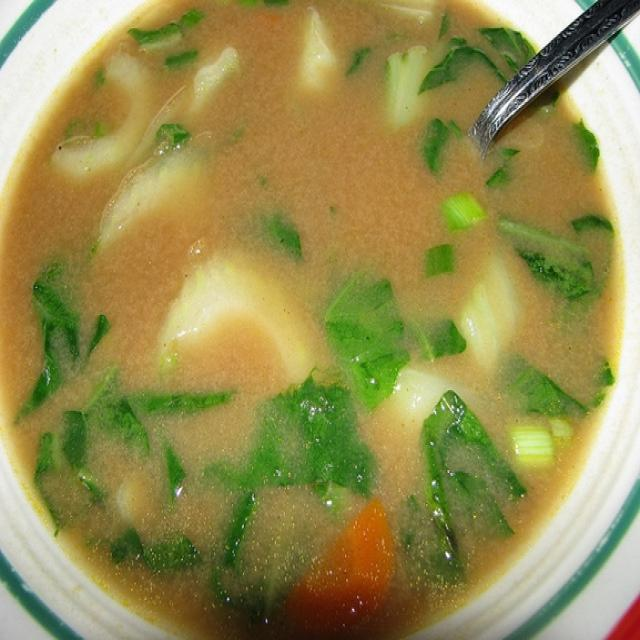汤锅炖物: (18, 15, 601, 615)
